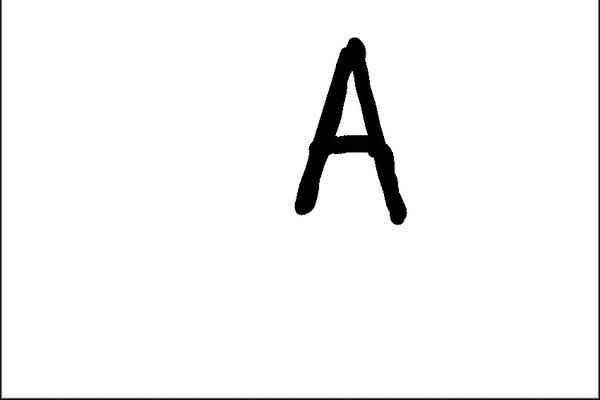A: (283, 29, 411, 228)
